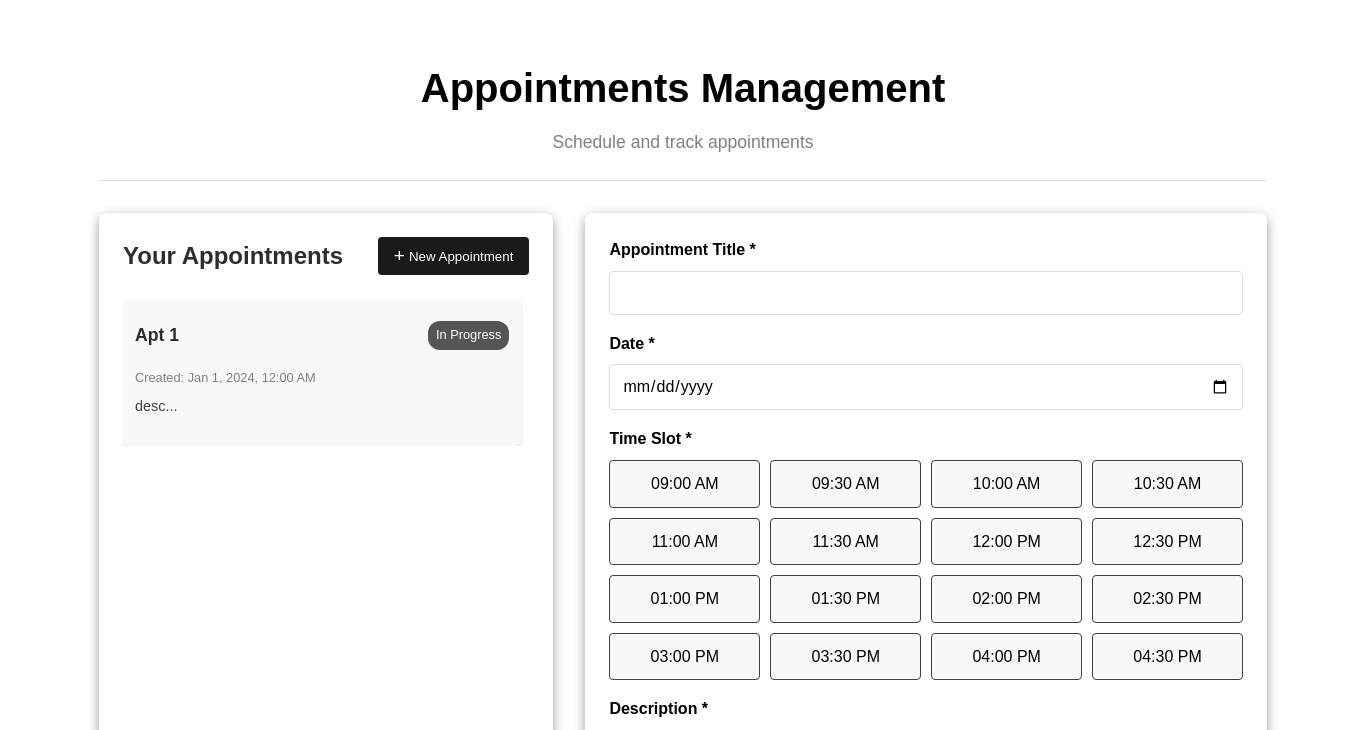
Test: UserAppointments Component › selects and displays appointment details
The image size is (1366, 730).
Click the heading "Apt 1": (157, 336) [135,322,179,350]
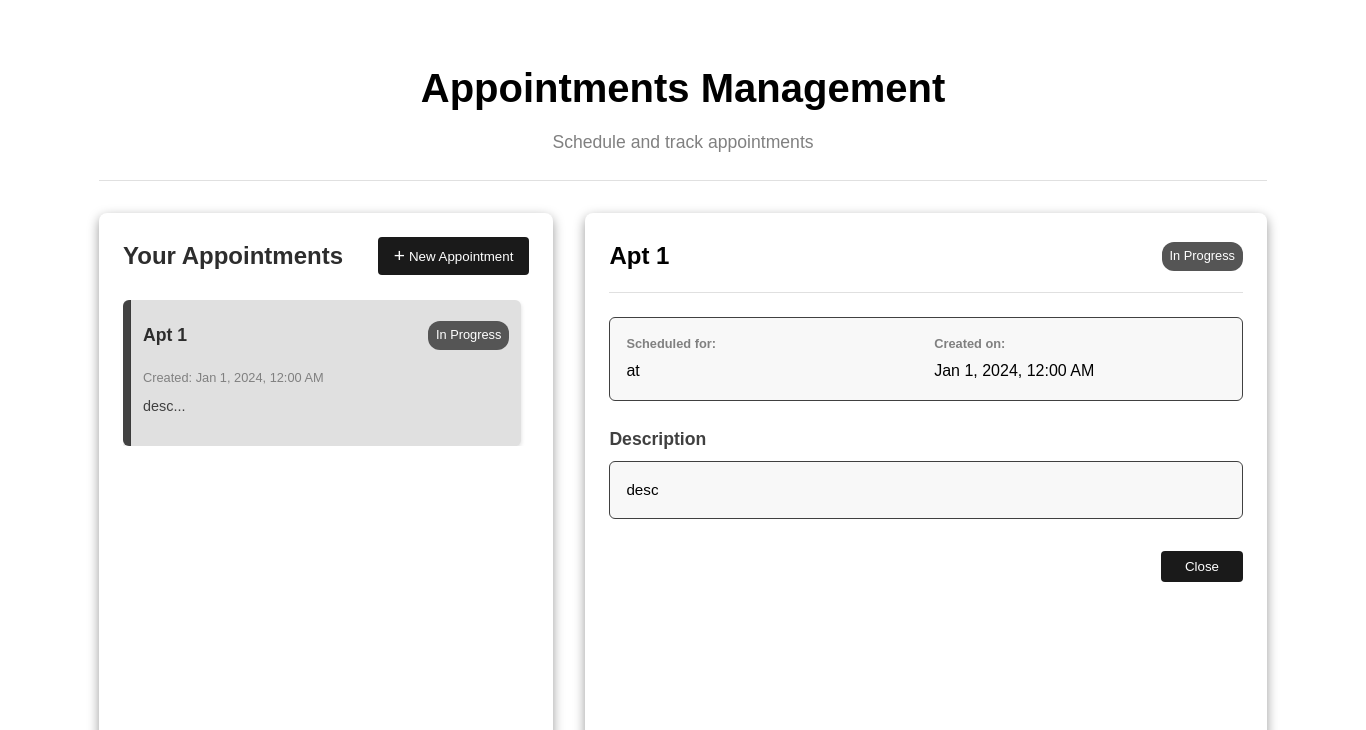
Expected: the heading "Description" is shown, [609,429,706,449]
Now the text "desc" is shown, box [609,461,1243,519]
